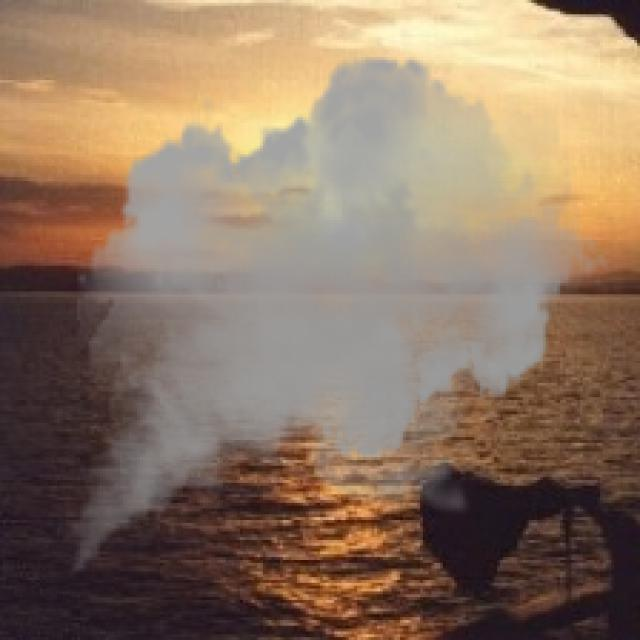Smoke: (57, 40, 612, 603)
